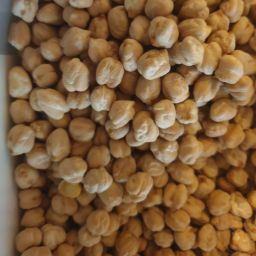White Chickpeas: (11, 4, 244, 256), (61, 51, 217, 195)
